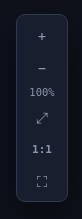
Test: DiagramViewport › returns to 100% on reset
Click the button with test id "zoom-in".
click(42, 35)  # box top-left (27, 20), bottom-right (57, 50)
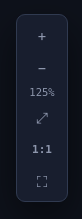
Now the text with test id "zoom-level" reads "125%", box top-left (29, 86), bottom-right (55, 98)
Click the button with test id "zoom-reset".
click(42, 149)  # box top-left (24, 134), bottom-right (60, 164)
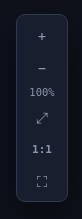
Now the text with test id "zoom-level" reads "100%", box top-left (29, 86), bottom-right (55, 98)
